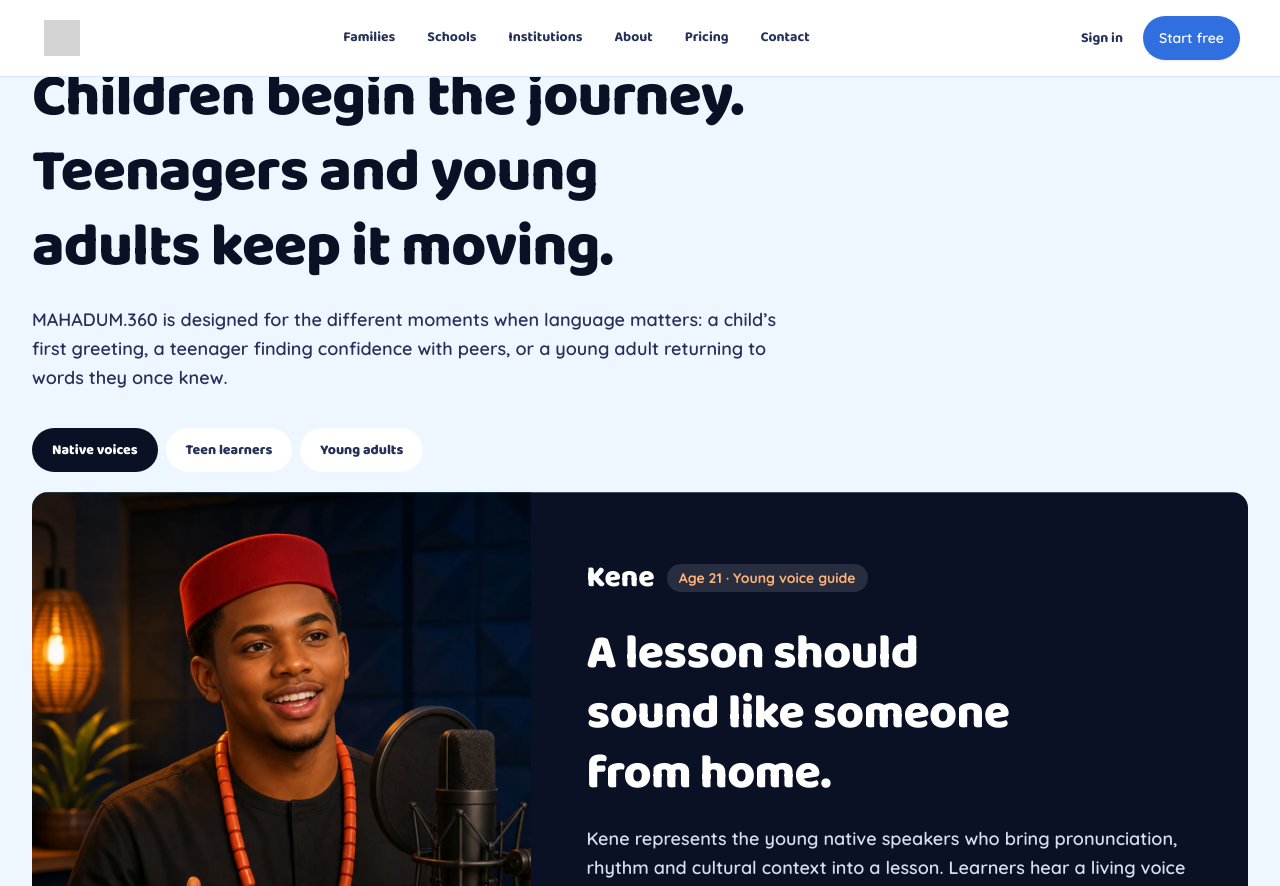
AboutPage › connects each expanded-age character to a distinct learning story
The image size is (1280, 886).
(page scrolled)
Click the tab "Teen learners".
click(229, 450)  # box x1=166 y1=428 x2=292 y2=472
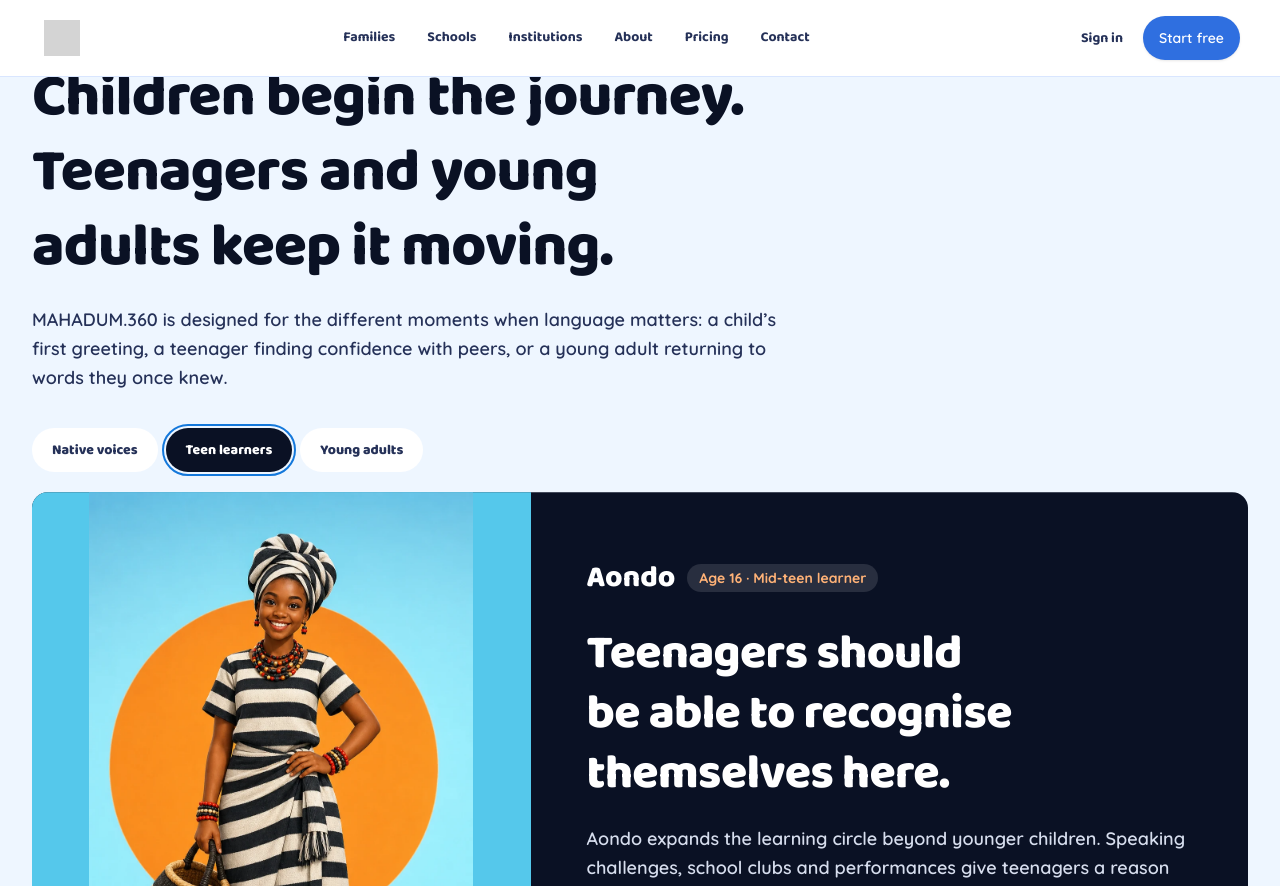
Expected: the heading "Teenagers should be able to recognise themselves here." is shown, x1=586 y1=615 x2=1012 y2=812
Click the tab "Young adults".
click(362, 450)  # box x1=300 y1=428 x2=423 y2=472
(page scrolled)
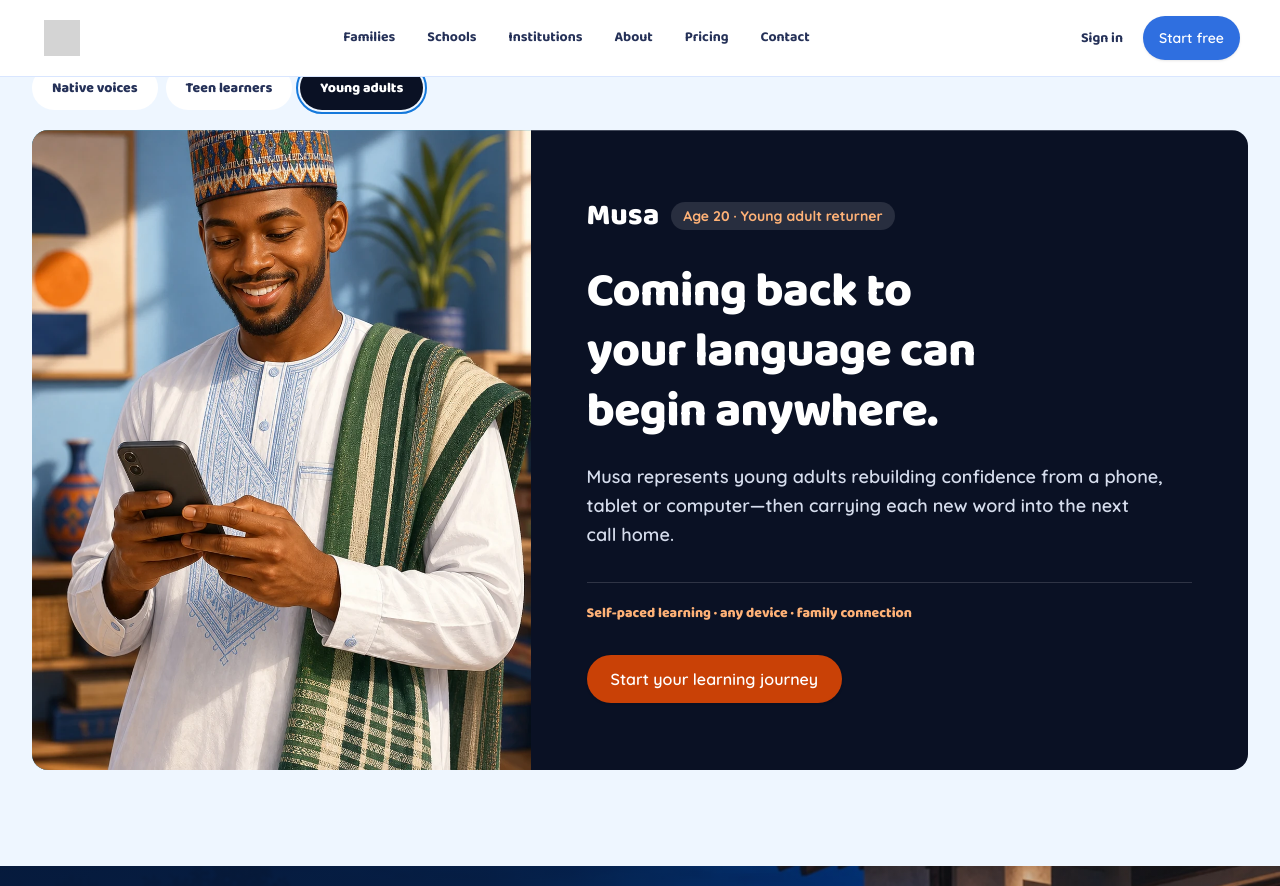
Expected: the picture named "Musa, a Hausa young adult" is shown, x1=32 y1=130 x2=530 y2=770
